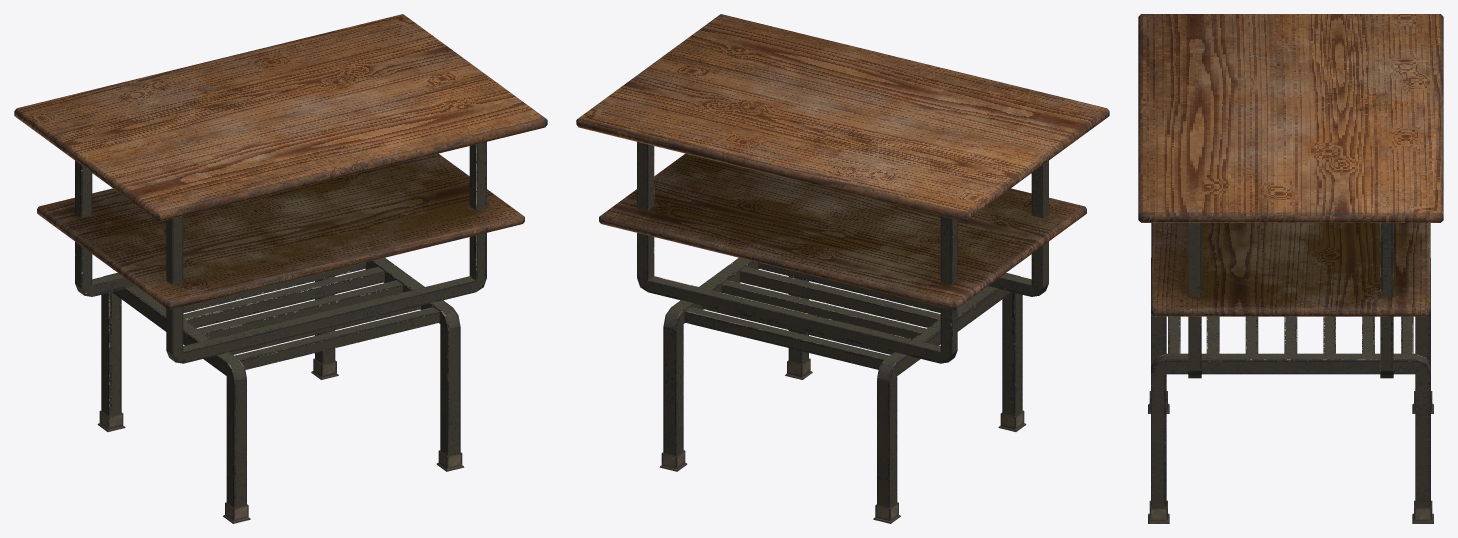
Rendered from TV_Stand.glb.
3 renders of one model, left to right at view 1: azimuth 30°, elevation 25°; view 2: azimuth 150°, elevation 25°; view 3: azimuth 270°, elevation 25°, orthographic. The views are drawn at different scales.
Parts seen in each view (by area): view 1: TV_Stand; view 2: TV_Stand; view 3: TV_Stand.
Part boxes in pixels (x1=…): TV_Stand: x1=14, y1=14, x2=547, y2=523; TV_Stand: x1=576, y1=14, x2=1109, y2=523; TV_Stand: x1=1138, y1=14, x2=1443, y2=523.
Bounding box in the file's own units: 1.29 × 1.05 × 0.8263.
1 material, 1 textured.
